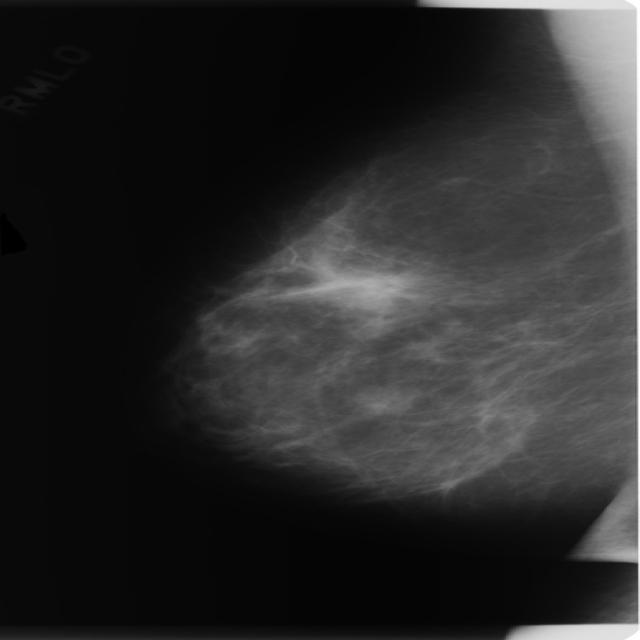tumour: (347, 383, 417, 415)
